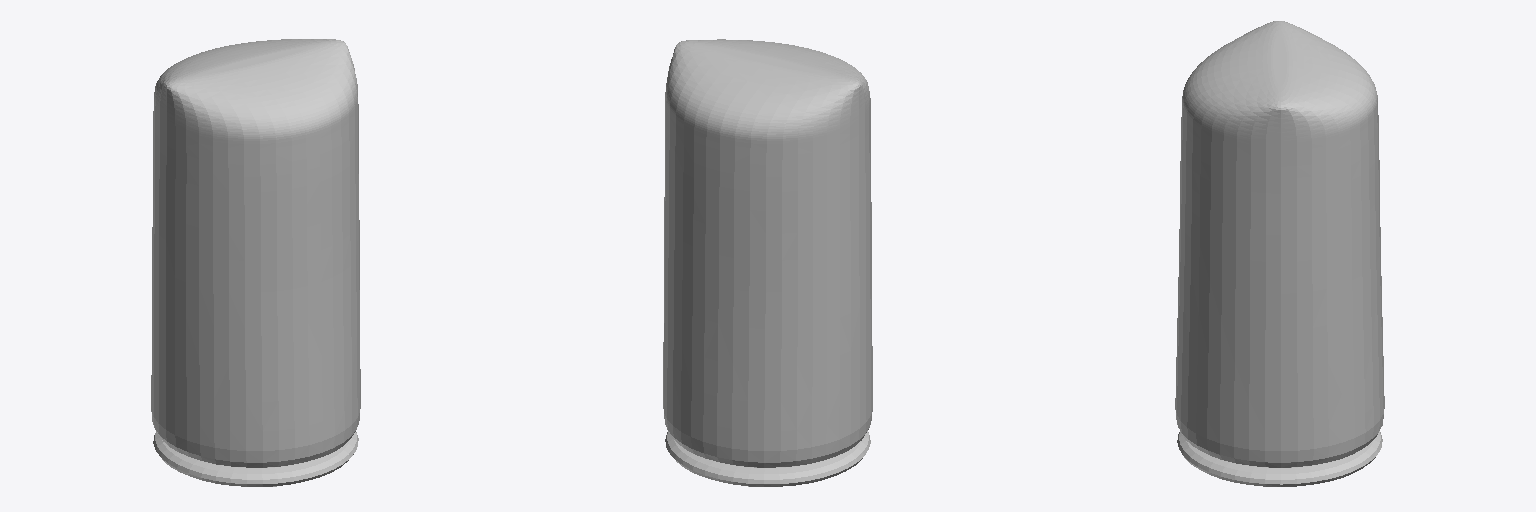
The model's file is ysl.obj.
The picture shows the model from 3 angles: view 1: azimuth 30°, elevation 25°; view 2: azimuth 150°, elevation 25°; view 3: azimuth 270°, elevation 25°; orthographic projection.
Visible parts, largest first — view 1: 000_Cylinder_-_baked; view 2: 000_Cylinder_-_baked; view 3: 000_Cylinder_-_baked.
Part boxes in pixels (x1,y1,x2,y2): 000_Cylinder_-_baked: (151, 39, 360, 486); 000_Cylinder_-_baked: (663, 39, 872, 486); 000_Cylinder_-_baked: (1175, 21, 1384, 486).
Size of the model in its own units: 98.31 by 202 by 98.1.